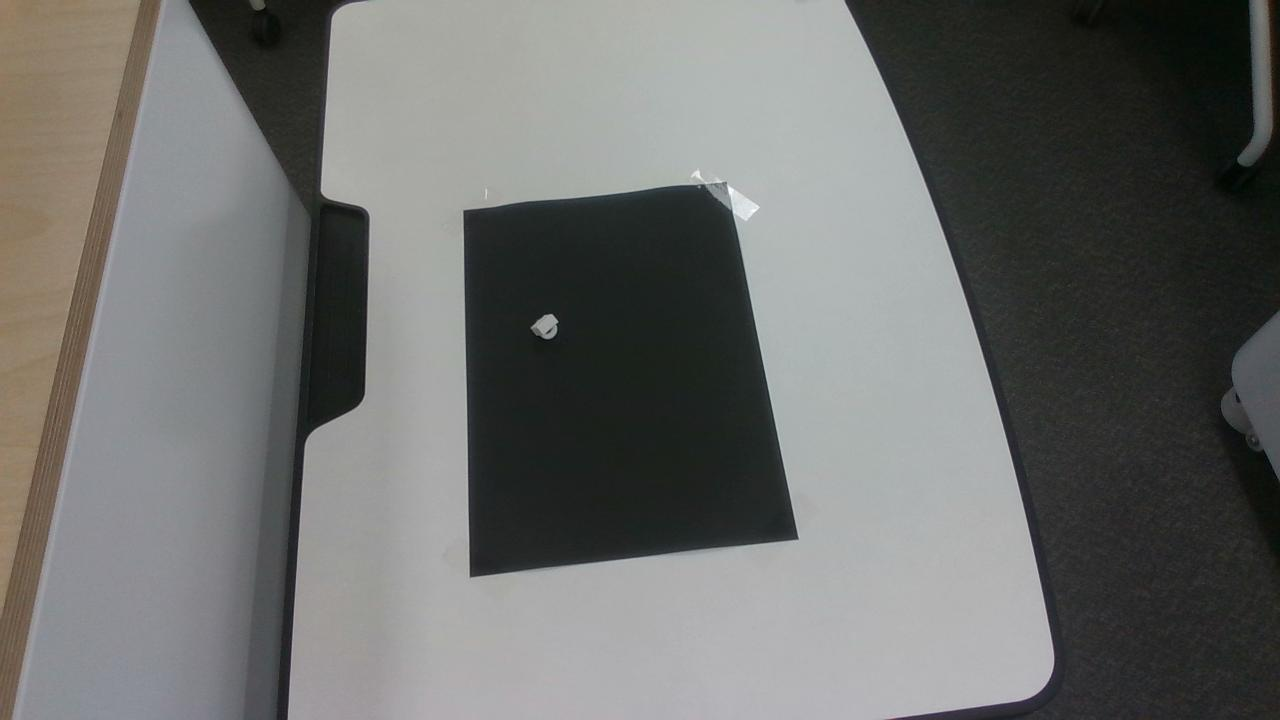cube: (531, 314, 557, 339)
